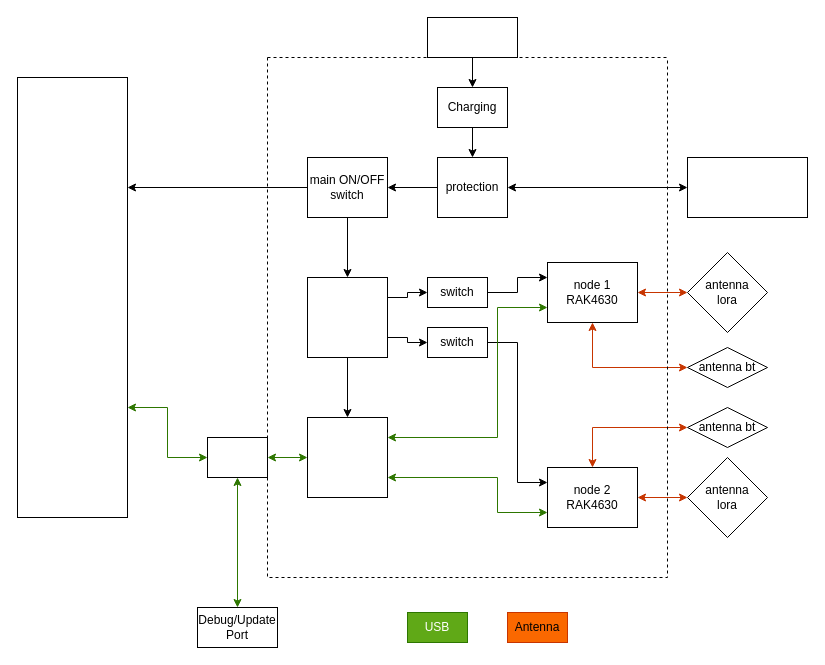
The diagram is 825 pixels wide and 665 high, and some of its shapes have lost their labels. The centre of each missing label's shape, as x and y in pixels:
3.3V Buck Converter: the point at 347,317
Battery Lipo 18650: the point at 747,187
phone samsung galaxy A5: the point at 72,297
USB C Chaging port: the point at 472,37
USB C Data: the point at 237,457
USB HUB CH334R: the point at 347,457
